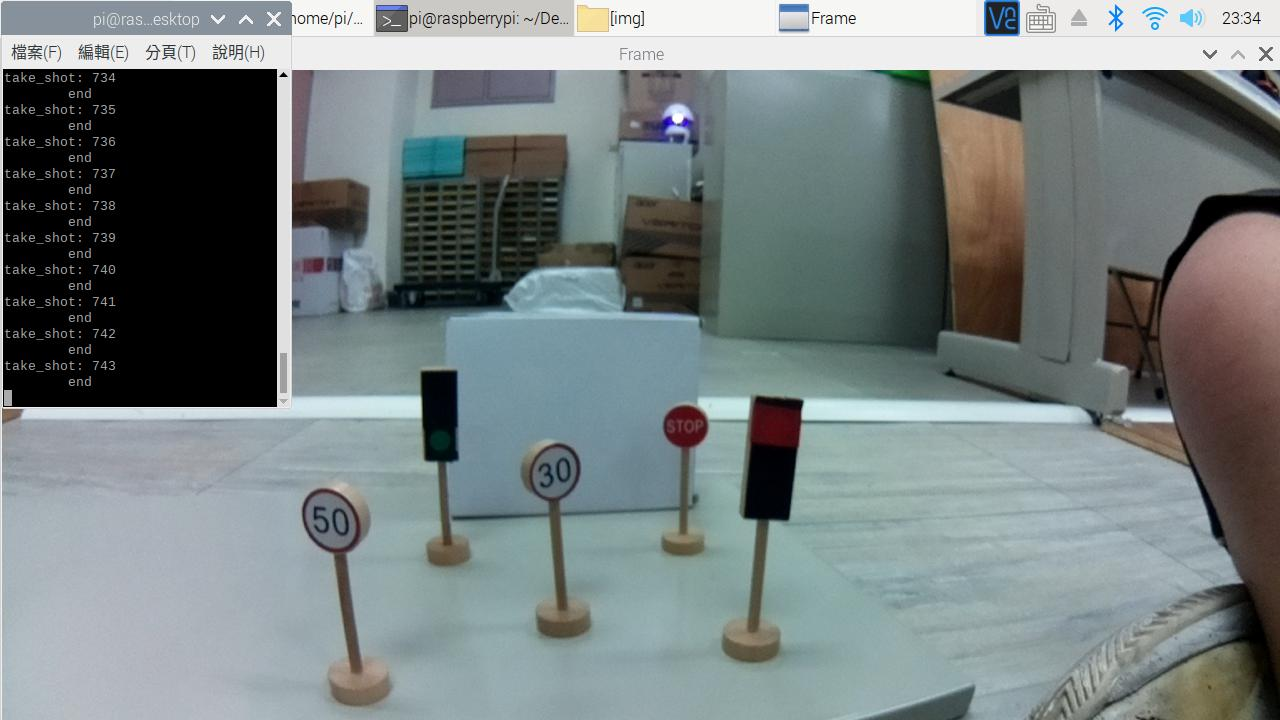Green: (408, 364, 478, 472)
Red: (742, 390, 805, 529)
Speed30: (514, 440, 594, 511)
Speed50: (292, 478, 381, 565)
Stop: (659, 403, 714, 456)
